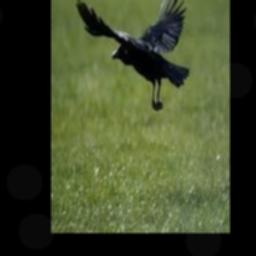Crow: (76, 0, 190, 111)
